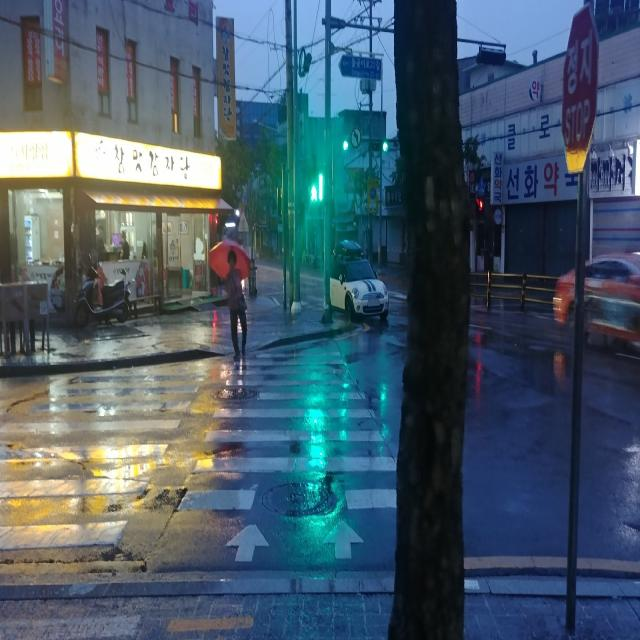초록불: (309, 174, 325, 206)
횡단보도: (0, 351, 399, 564)
